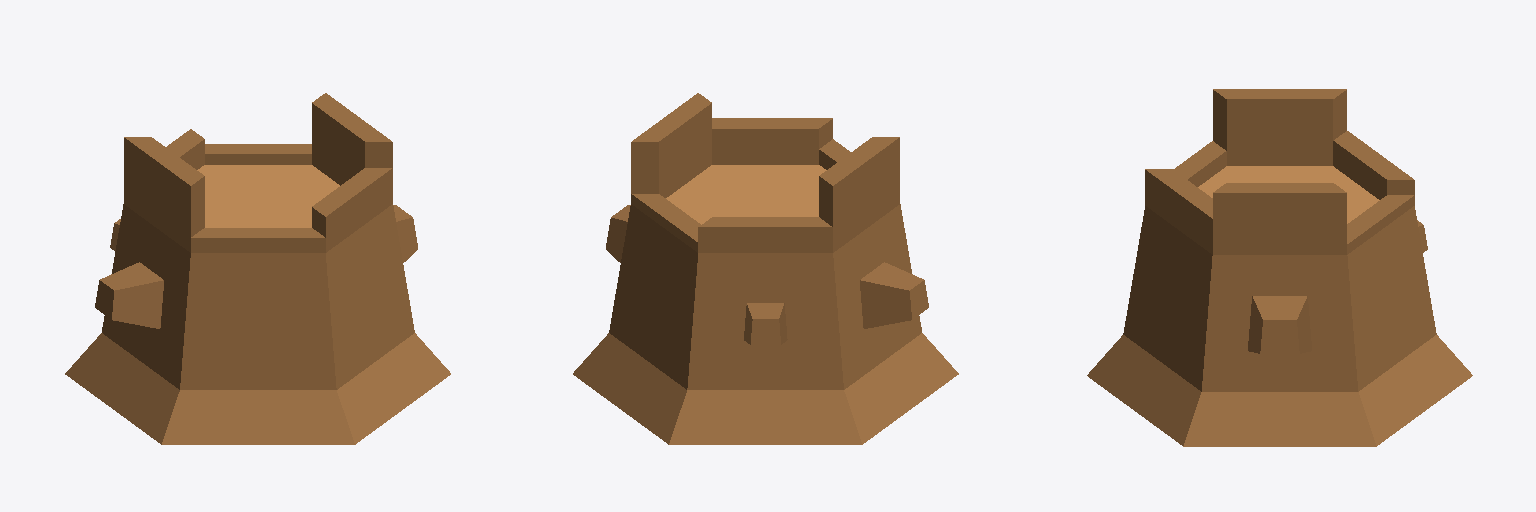
File: trunk.obj
3 renders of one model, left to right at view 1: azimuth 30°, elevation 25°; view 2: azimuth 150°, elevation 25°; view 3: azimuth 270°, elevation 25°, orthographic.
Parts seen in each view (by area): view 1: trunk; view 2: trunk; view 3: trunk.
Part boxes in pixels (bbox=[...]): trunk: bbox=[65, 93, 450, 444]; trunk: bbox=[573, 93, 958, 444]; trunk: bbox=[1087, 89, 1472, 446].
Size of the model in its own units: 5.02 by 3.73 by 5.51.